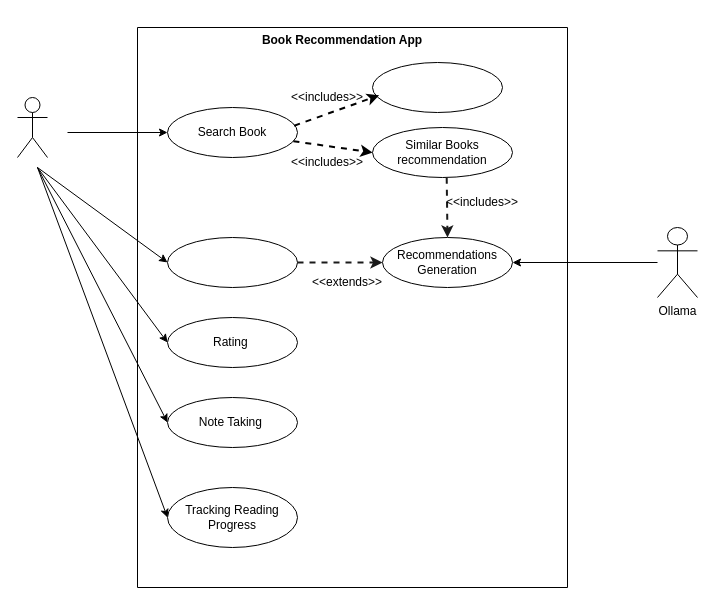
The diagram is 715 pixels wide and 605 high, and some of its shapes have lost their labels. The centre of each missing label's shape, as x and y in pixels:
"Chat Assistant" belongs at (232,262).
"More by this author" belongs at (437,87).
"User" belongs at (32,127).
